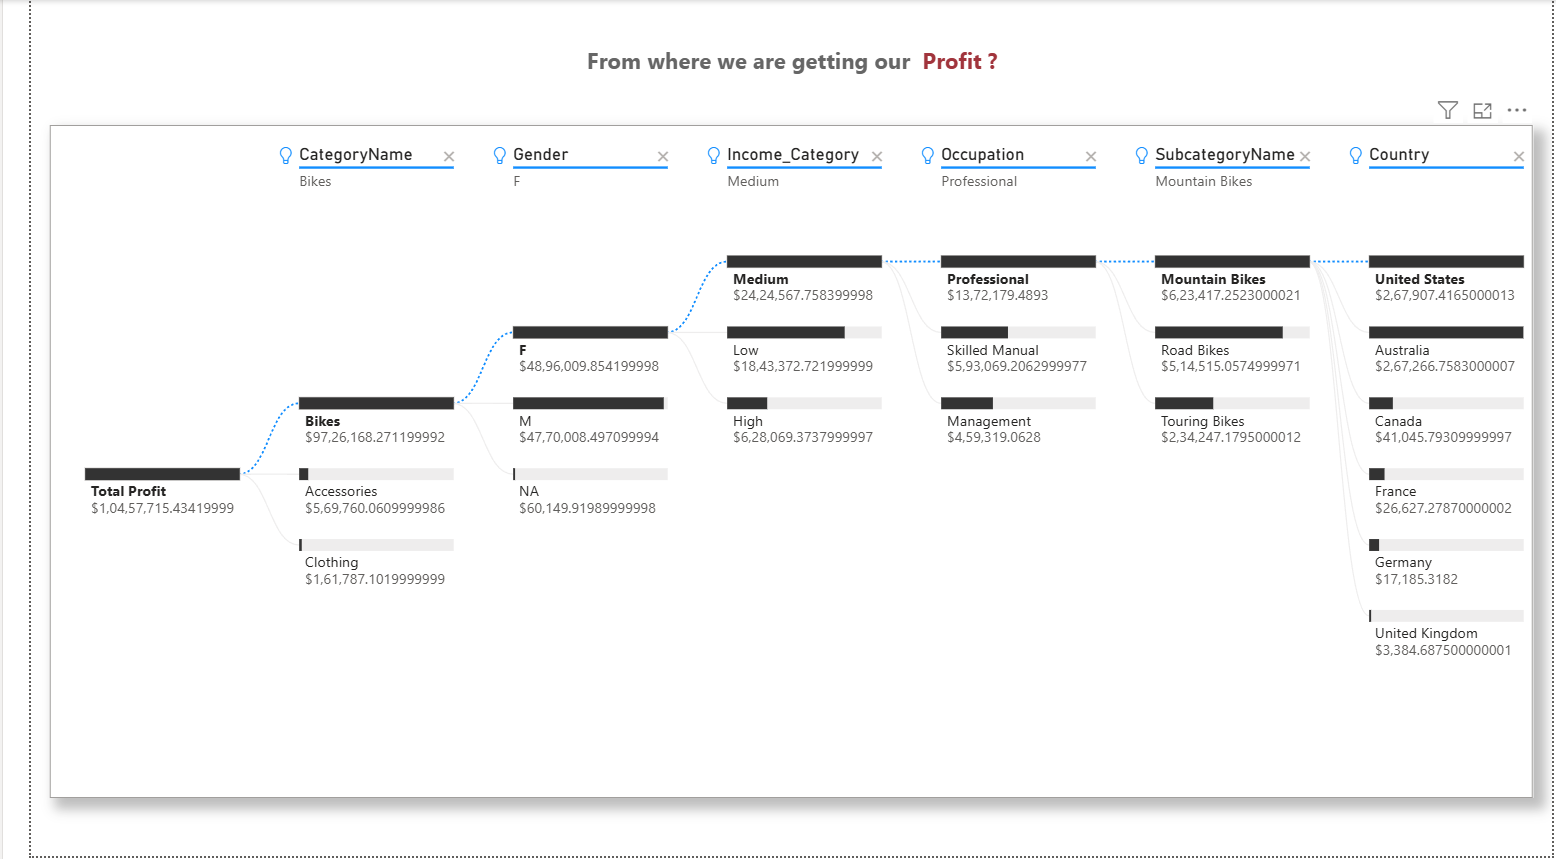

This screenshot's page, from the dashboard's own definition file:
{"tool":"powerbi","page":{"name":"Profit Analysis","canvas":[1280,720],"ordinal":4},"visuals":[{"type":"decompositionTreeVisual","fields":{"Analyze":["Measure_Table.Total Profit"],"ExplainBy":["Product Category.CategoryName","Customer Lookup.Gender","Customer Lookup.Income_Category","Customer Lookup.Occupation","Product Subcategories.SubcategoryName","Territory Lookup.Country","Product Lookup.ProductName","Territory Lookup.Region"]},"box":[15.9,105.3,1248,565.6],"z":0},{"type":"textbox","box":[454.5,33.2,372.2,40.4],"z":1000}]}

Visuals, with their boxes on the page's 1280x720 design canvas (x1, y1, x2, y2). These are canvas units, not pixel positions in the 1556x859 screenshot, which may show the page scaled, cropped or inside an application window:
decompositionTreeVisual - Measure_Table.Total Profit x Product Category.CategoryName: box(16, 105, 1264, 671)
textbox: box(454, 33, 827, 74)
